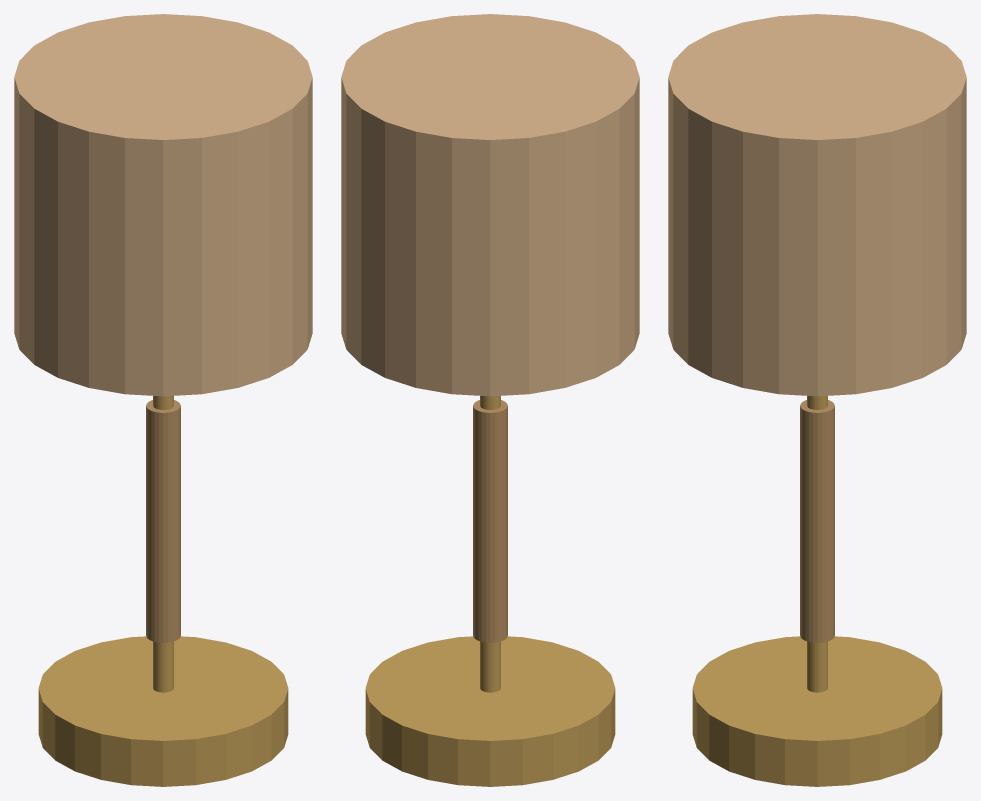
The picture shows the model from 3 angles, left to right: view 1: azimuth 30°, elevation 25°; view 2: azimuth 150°, elevation 25°; view 3: azimuth 270°, elevation 25°; orthographic projection.
Visible parts, largest first — view 1: 6 shade, 1 base, 3 twine_stem, 2 lower_stem; view 2: 6 shade, 1 base, 3 twine_stem, 2 lower_stem; view 3: 6 shade, 1 base, 3 twine_stem, 2 lower_stem.
Part boxes in pixels (x1,y1,x2,y2): 6 shade: (14,14,312,396); 1 base: (38,636,288,786); 3 twine_stem: (146,400,180,642); 2 lower_stem: (153,641,173,692); 6 shade: (341,14,639,396); 1 base: (365,636,615,786); 3 twine_stem: (473,400,507,642); 2 lower_stem: (480,641,500,692); 6 shade: (668,14,966,396); 1 base: (692,636,942,786); 3 twine_stem: (800,400,834,642); 2 lower_stem: (807,641,827,692).
Bounding box in the file's own units: 0.1798 × 0.4369 × 0.1798.
